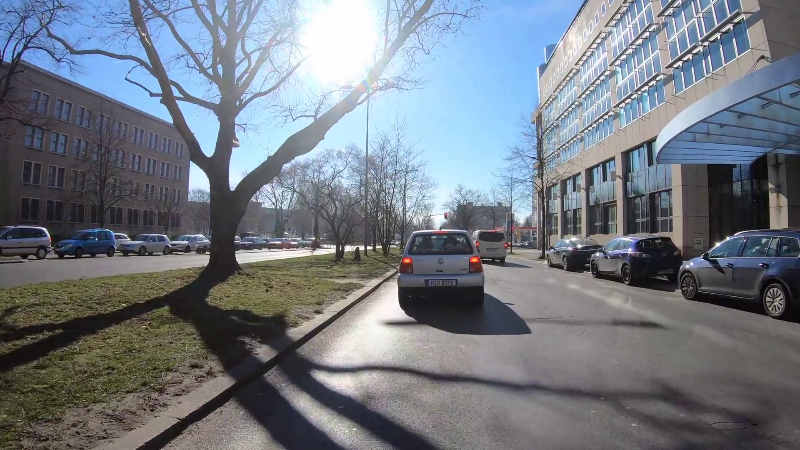Plate: (423, 278, 459, 287), (654, 268, 674, 274), (485, 247, 498, 252)
